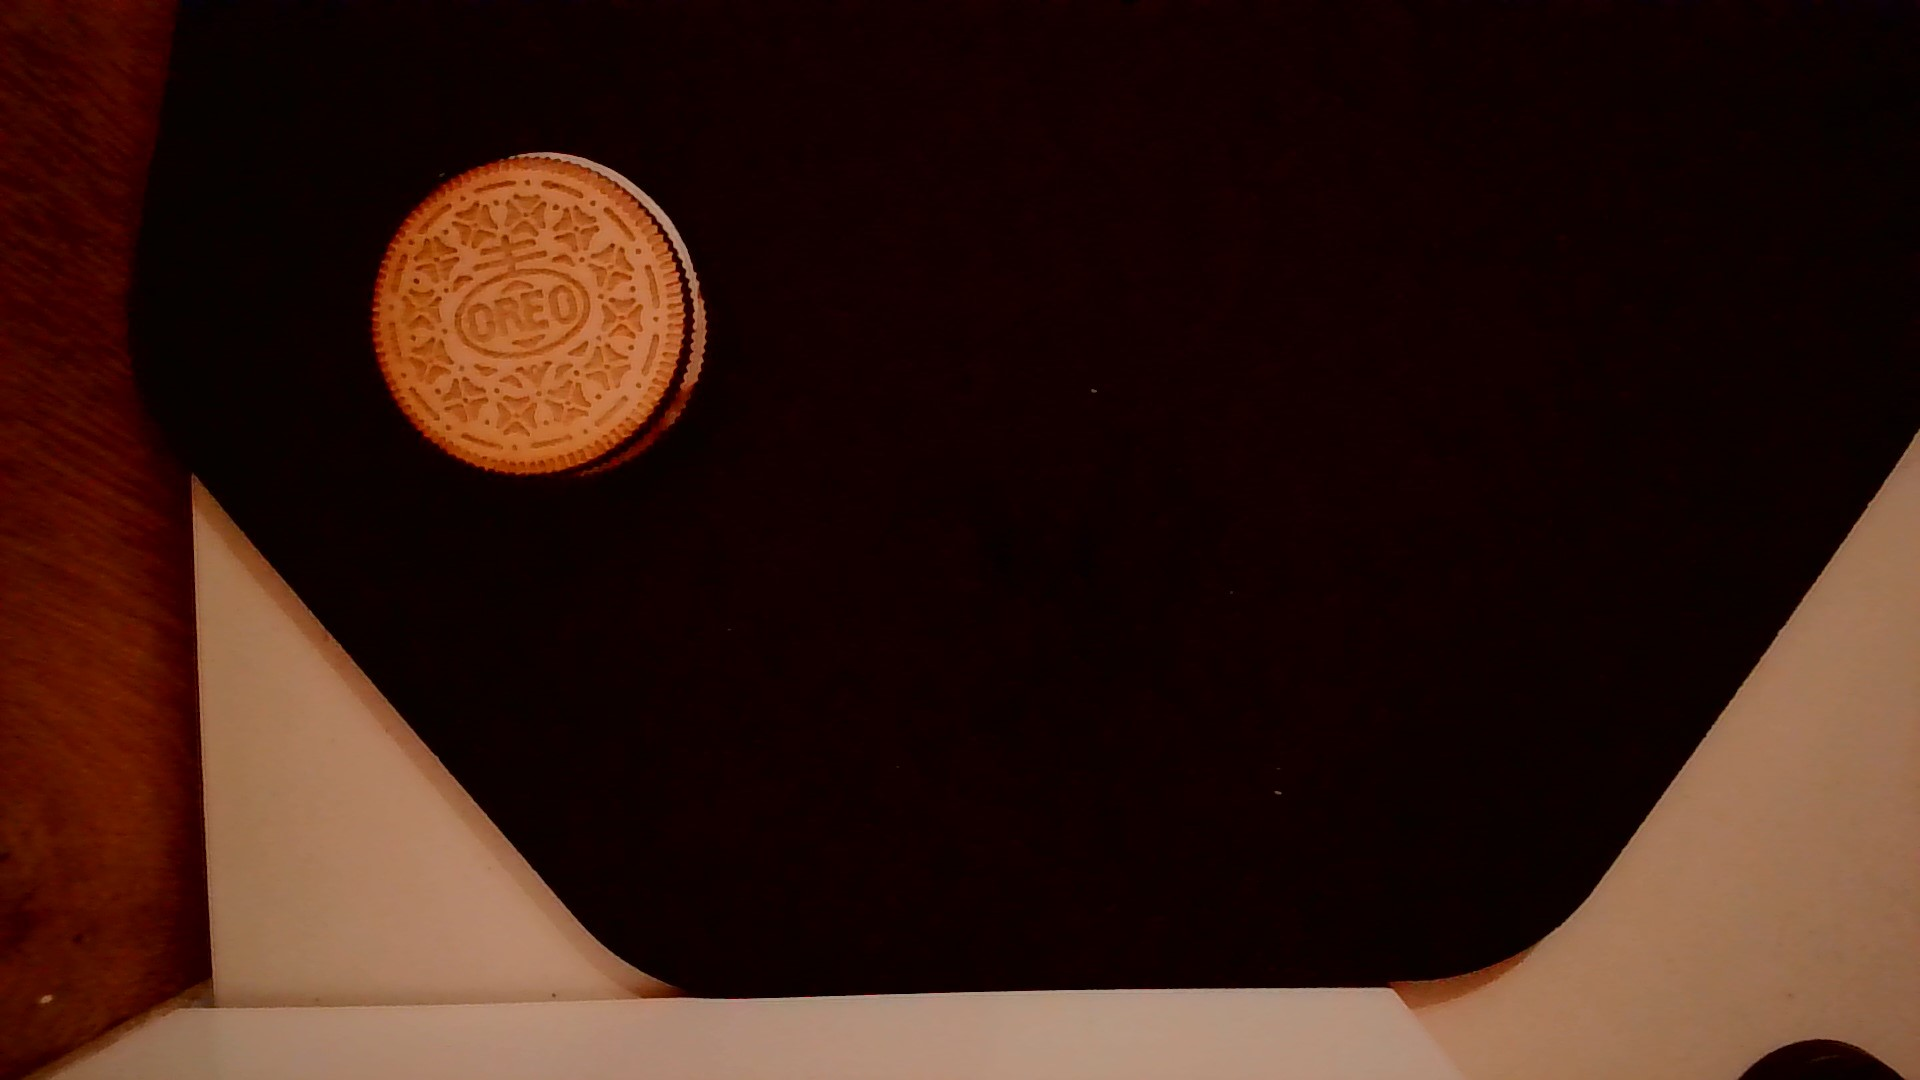Décalé: (508, 137, 700, 295)
Oréo: (363, 149, 712, 487)
